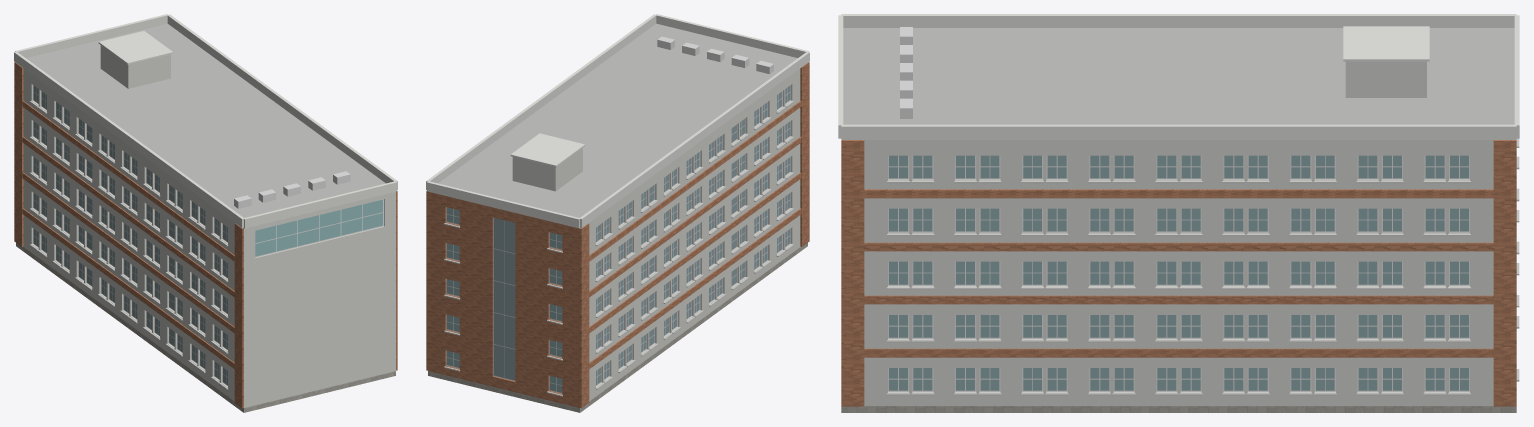
3 renders of one model, left to right at view 1: azimuth 30°, elevation 25°; view 2: azimuth 150°, elevation 25°; view 3: azimuth 270°, elevation 25°, orthographic. The views are drawn at different scales.
Parts seen in each view (by area): view 1: west-wing__white, west-wing__roof, west-wing__cap, west-wing__brick, west-wing__sideglass, west-wing__frame, west-wing__tealglass, west-wing__sill, west-wing__stone, west-wing__unit; view 2: west-wing__brick, west-wing__white, west-wing__roof, west-wing__sideglass, west-wing__cap, west-wing__frame, west-wing__sill, west-wing__stone, west-wing__glass, west-wing__unit; view 3: west-wing__white, west-wing__roof, west-wing__glass, west-wing__brick, west-wing__cap, west-wing__frame, west-wing__sill, west-wing__stone, west-wing__unit.
Part boxes in pixels (x1,y1,x2,y2): west-wing__white: (23, 45, 395, 407); west-wing__roof: (26, 23, 385, 228); west-wing__cap: (14, 14, 397, 228); west-wing__brick: (14, 62, 397, 408); west-wing__sideglass: (33, 86, 227, 385); west-wing__frame: (33, 85, 383, 385); west-wing__tealglass: (255, 199, 382, 256); west-wing__sill: (29, 101, 228, 389); west-wing__stone: (16, 243, 395, 412); west-wing__unit: (234, 171, 350, 208); west-wing__brick: (426, 62, 809, 408); west-wing__white: (512, 68, 800, 400); west-wing__roof: (438, 23, 797, 228); west-wing__sideglass: (494, 86, 790, 385); west-wing__cap: (426, 14, 809, 228); west-wing__frame: (446, 85, 790, 393); west-wing__sill: (444, 101, 794, 396); west-wing__stone: (428, 243, 807, 412); west-wing__glass: (447, 207, 562, 392); west-wing__unit: (657, 36, 773, 73); west-wing__white: (864, 61, 1493, 405); west-wing__roof: (843, 28, 1514, 124); west-wing__glass: (889, 155, 1468, 390); west-wing__brick: (841, 140, 1516, 406); west-wing__cap: (838, 14, 1519, 139); west-wing__frame: (888, 155, 1469, 391); west-wing__sill: (887, 138, 1519, 395); west-wing__stone: (841, 406, 1516, 412); west-wing__unit: (900, 27, 912, 118).
Size of the model in its own units: 16.38 by 21.37 by 41.88.
Materials: 12 (3 with a texture image).
